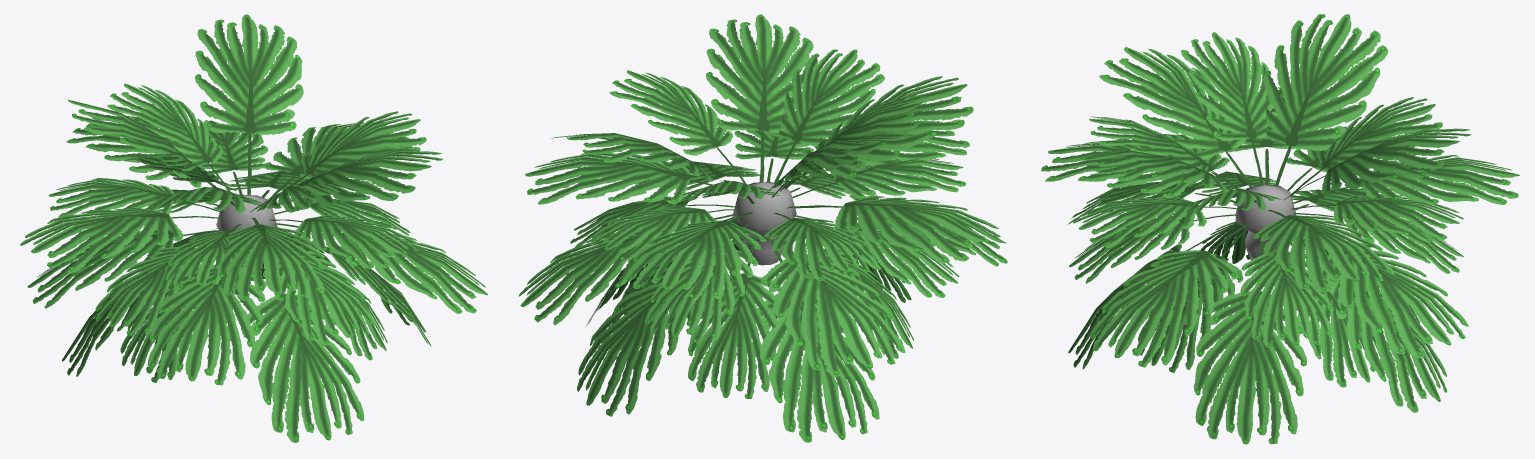
The model's file is Palm_Haut.fbx.
The picture shows the model from 3 angles, left to right: view 1: azimuth 30°, elevation 25°; view 2: azimuth 150°, elevation 25°; view 3: azimuth 270°, elevation 25°; orthographic projection. The views are drawn at different scales.
Visible parts, largest first — view 1: PalmFeu (×47), PH_LD; view 2: PalmFeu (×50), PH_LD; view 3: PalmFeu (×51), PH_LD.
Boxes of the visible parts, x1,y1,x2,y2 form: PalmFeu (×47): [20, 14, 487, 442]; PH_LD: [216, 194, 277, 271]; PalmFeu (×50): [519, 14, 1007, 442]; PH_LD: [732, 182, 796, 265]; PalmFeu (×51): [1041, 14, 1519, 444]; PH_LD: [1235, 184, 1295, 265].
Bounding box in the file's own units: 22.37 × 14.41 × 22.32.
